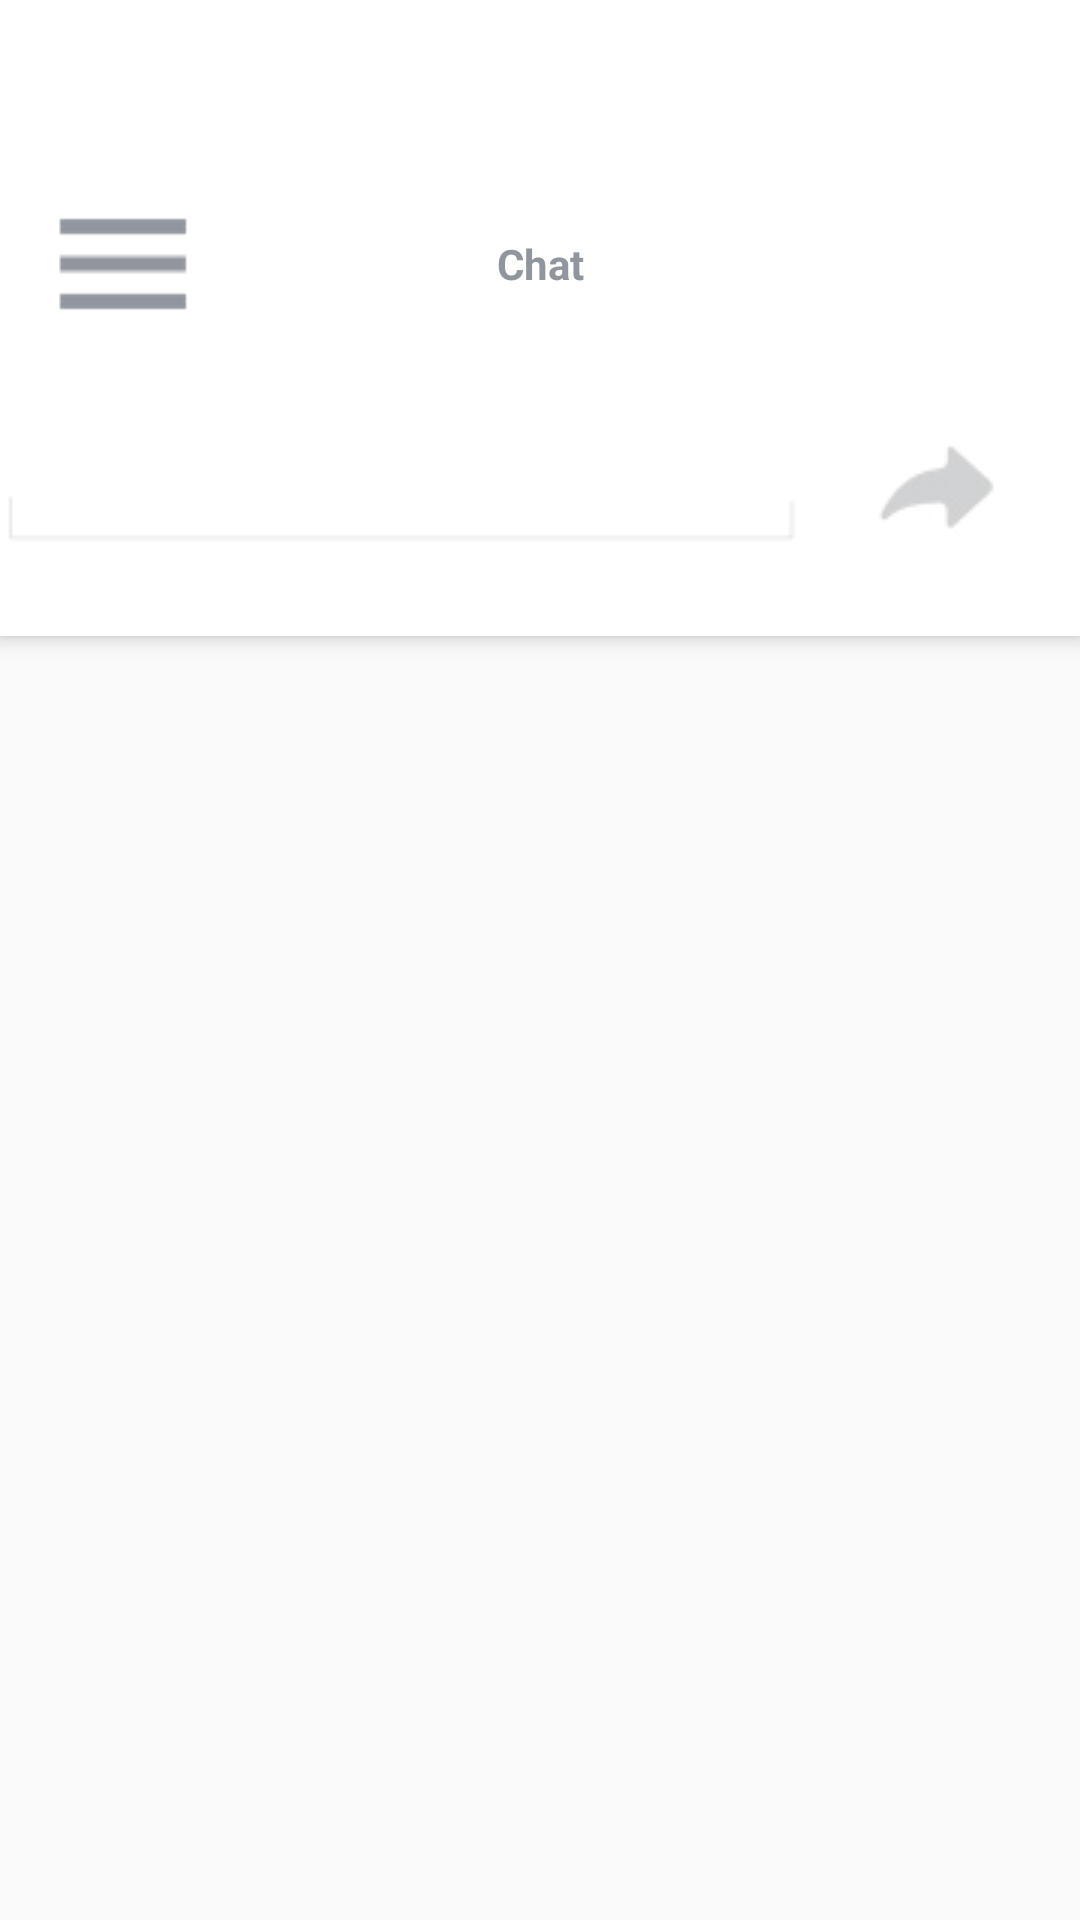

Icon click points for this 1080*1920 phone screenshot, format (x=x, y=y):
menu: (x=123, y=264)
send msg: (x=937, y=487)
